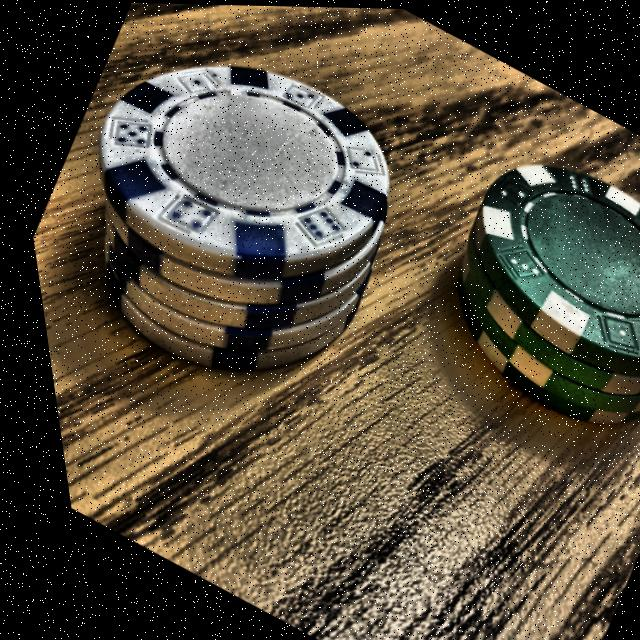Chip: (0, 0, 493, 454), (359, 103, 640, 474)
